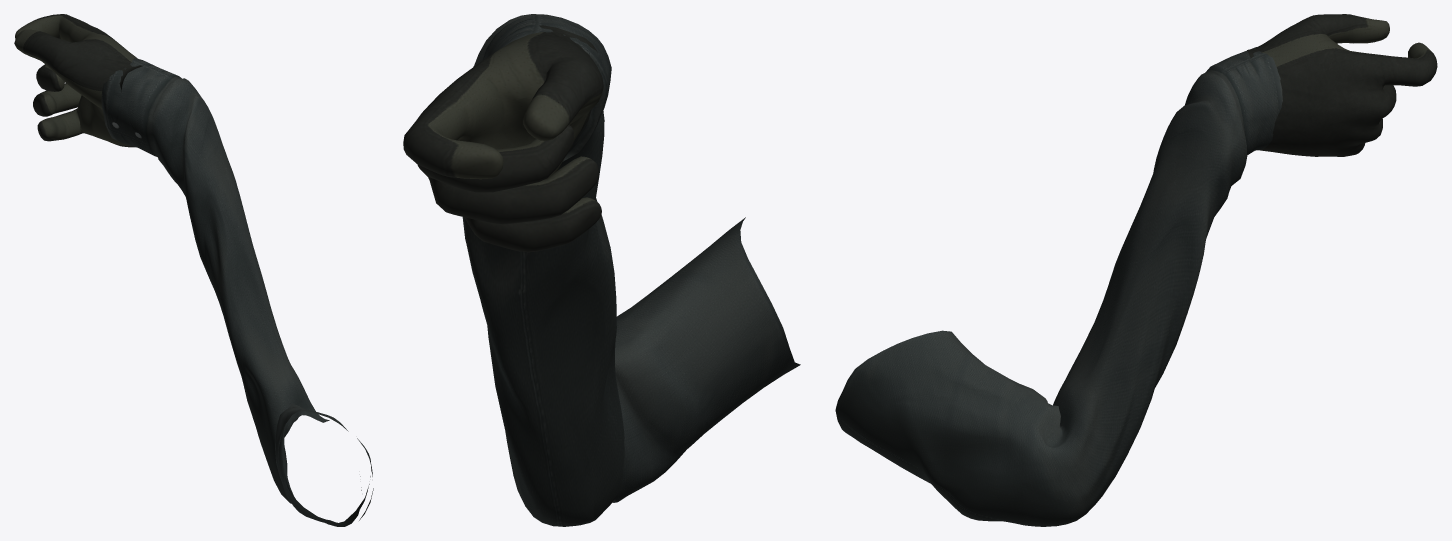
Rendered from hands_palette.glb.
3 views of the same model, side by side, from view 1: azimuth 30°, elevation 25°; view 2: azimuth 150°, elevation 25°; view 3: azimuth 270°, elevation 25° (orthographic). The views are drawn at different scales.
Parts seen in each view (by area): view 1: Assault; view 2: Assault; view 3: Assault.
Boxes of the visible parts, bbox=[...] form: Assault: bbox=[14, 14, 373, 526]; Assault: bbox=[403, 14, 800, 526]; Assault: bbox=[835, 14, 1437, 526].
Size of the model in its own units: 0.3782 by 0.8409 by 1.04.
Materials: 10 (10 with a texture image).
